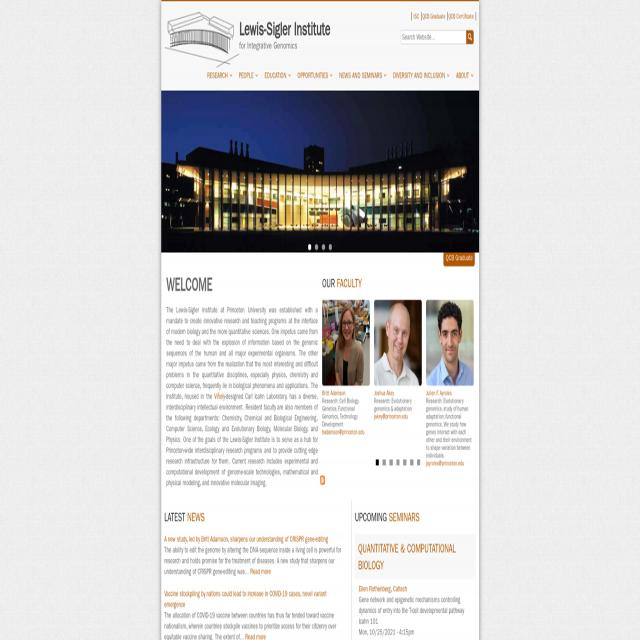button: (164, 12, 239, 68), (320, 476, 325, 484)
field: (401, 30, 468, 45), (466, 30, 474, 45)
